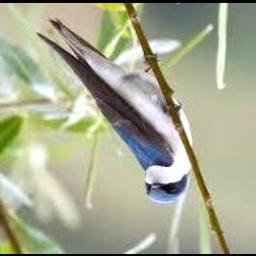Swallow: (37, 19, 193, 204)
